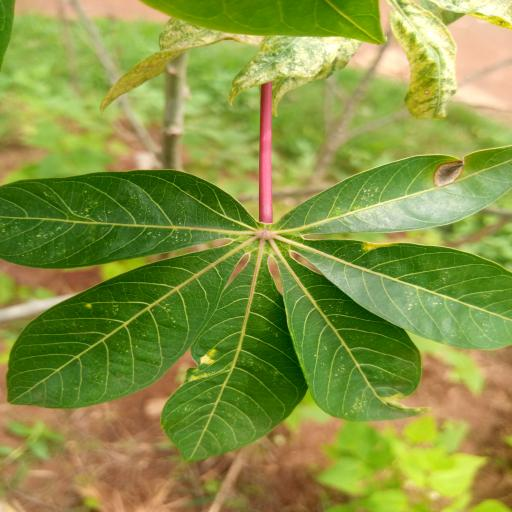Cassava_Mosaic: (0, 148, 512, 459)
